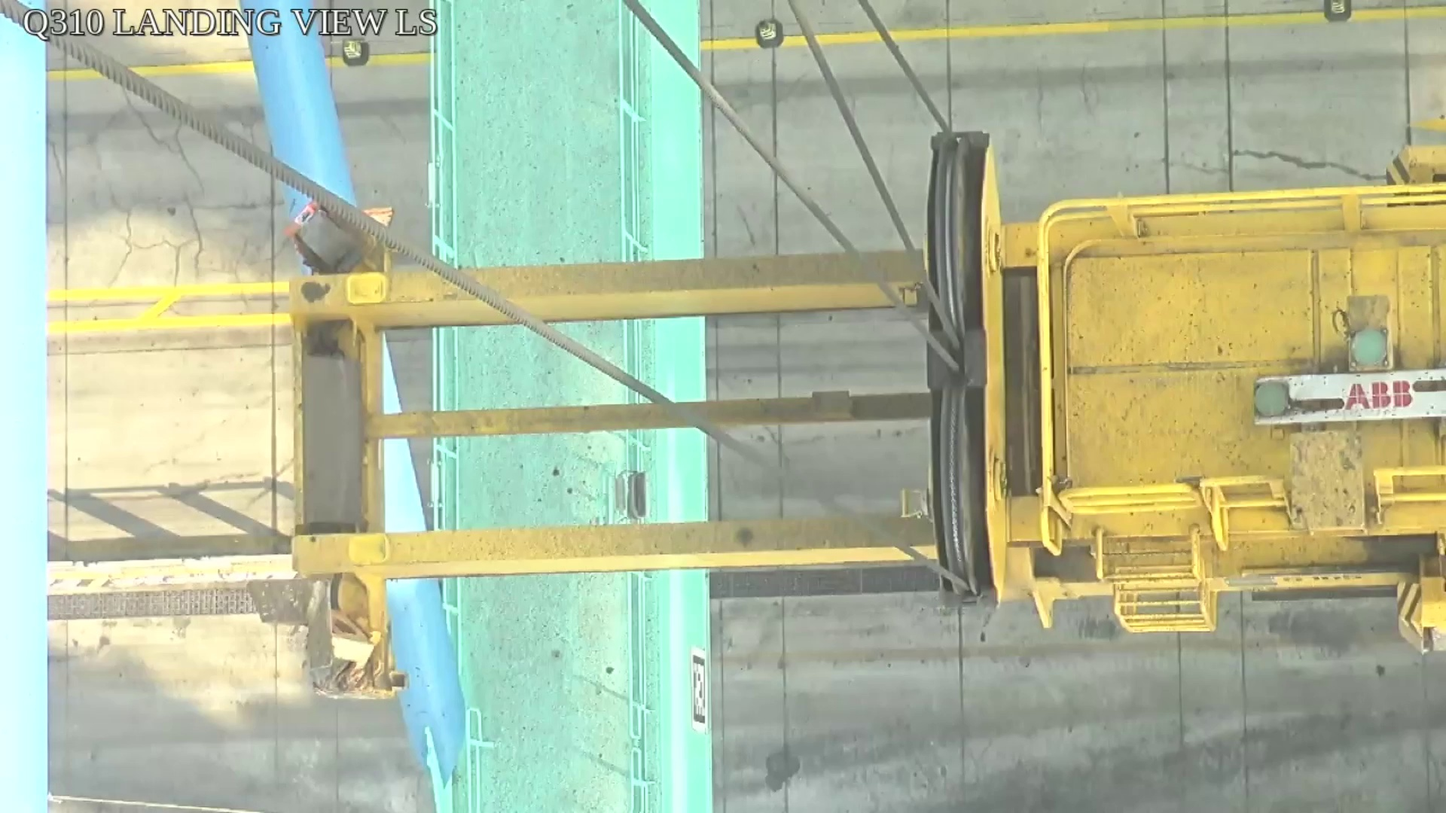aa: (924, 129, 1013, 606)
